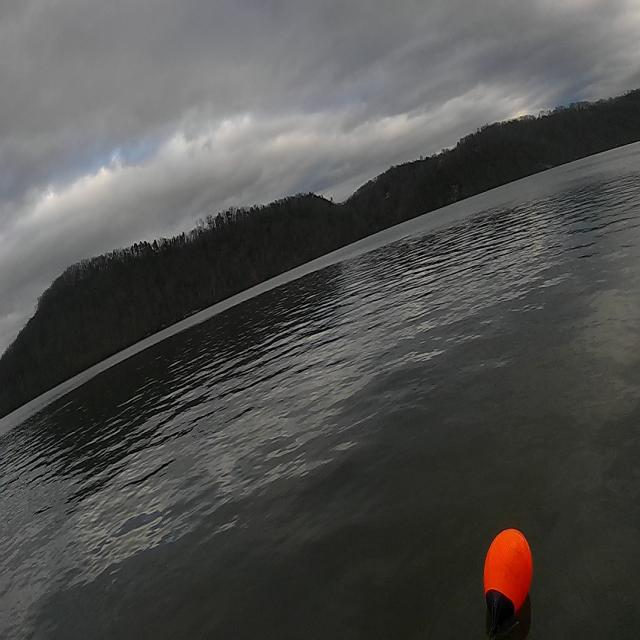Buoy: (477, 518, 538, 638)
